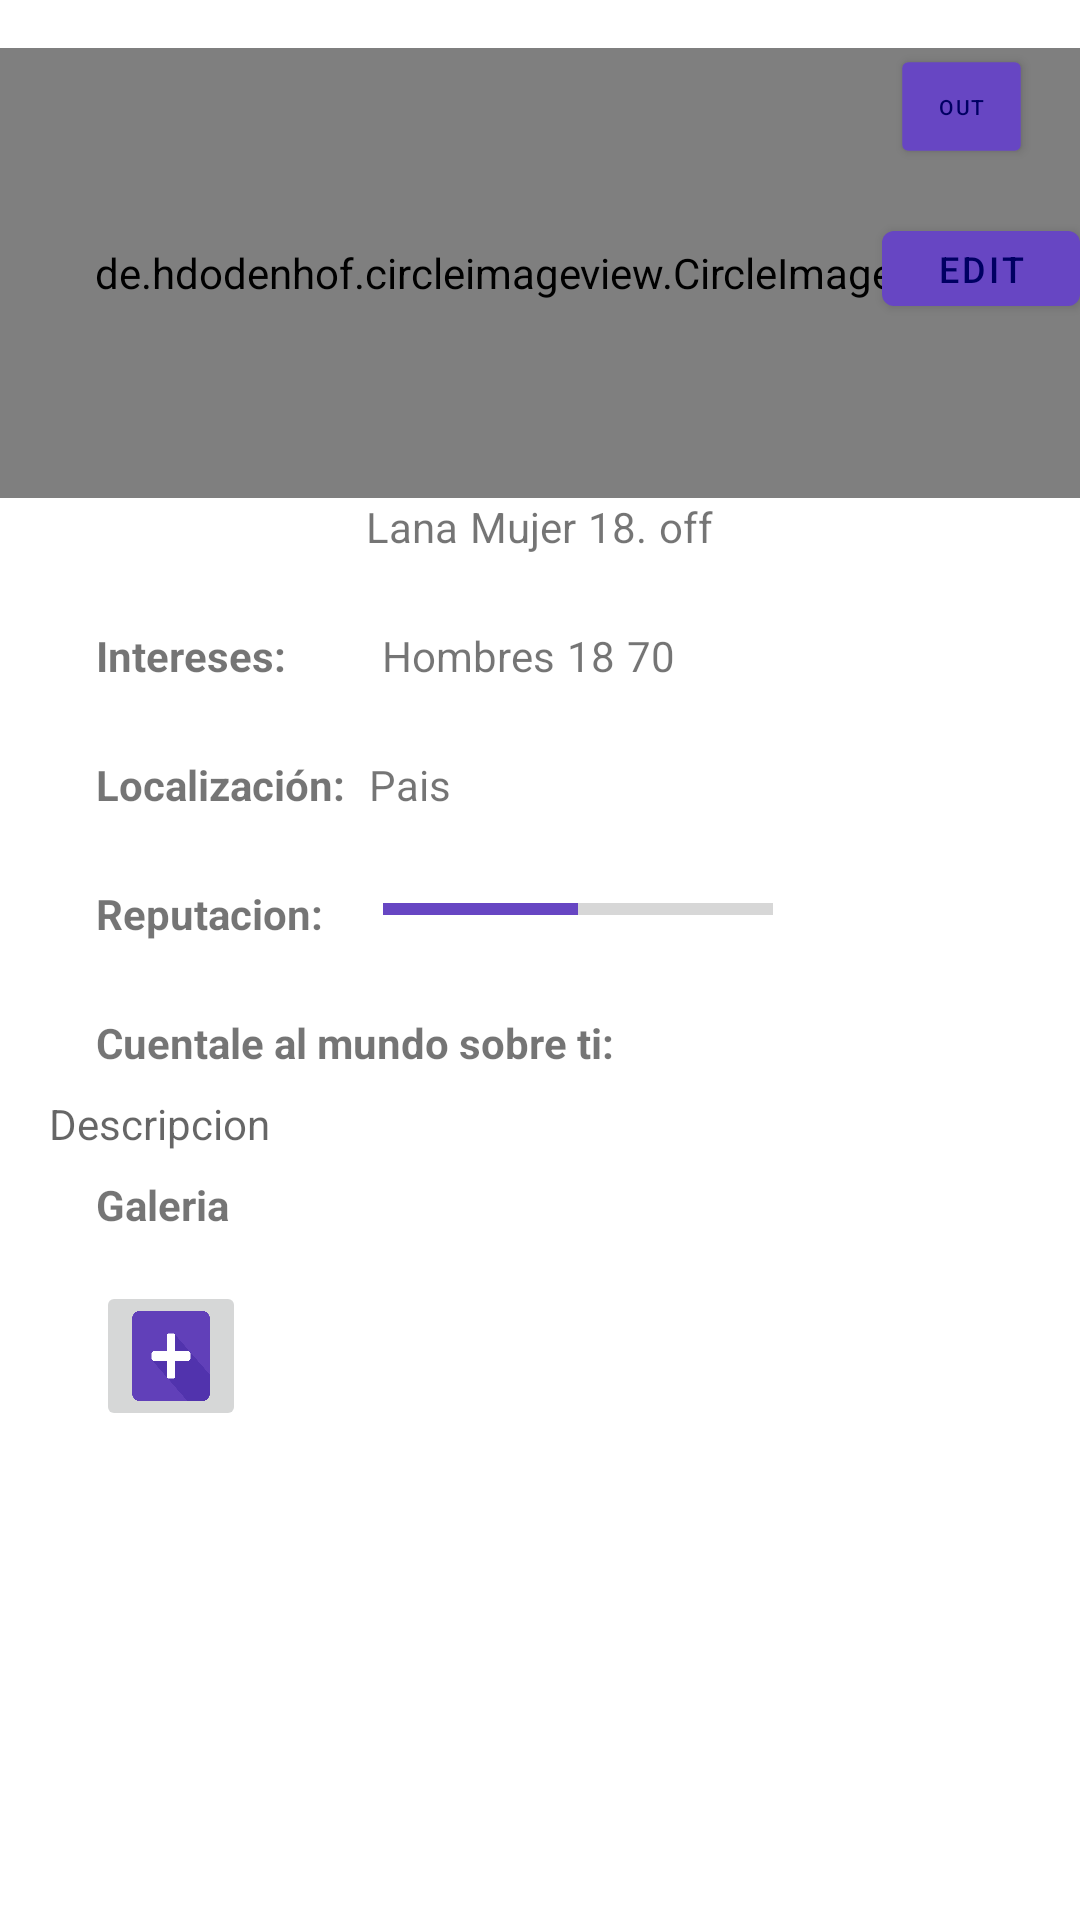

Icons on this 1080px×1920px Android screen, each with its box as (x1, y1, x2, y2):
add: (108, 1299, 234, 1413)
